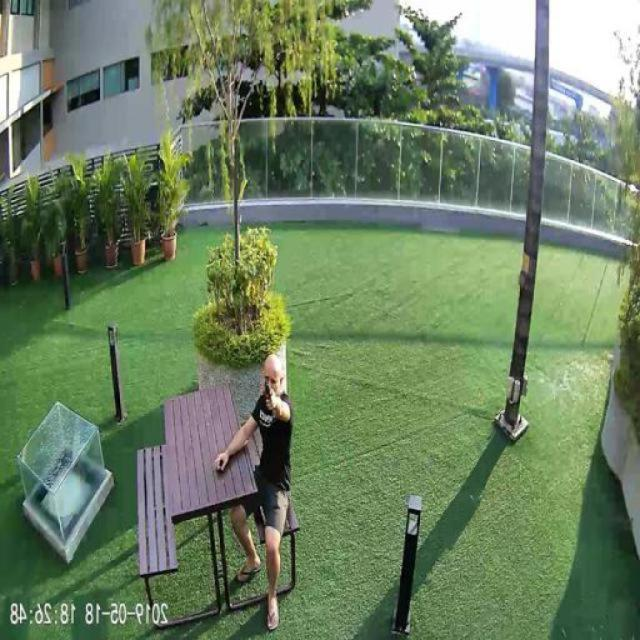pistol: (264, 377, 276, 408)
